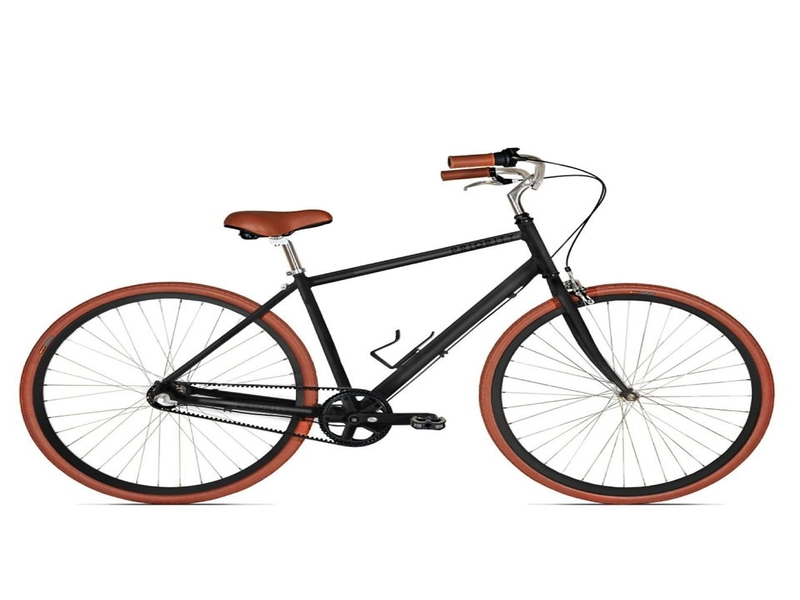bicycle: (17, 148, 778, 506), (17, 148, 778, 506)
